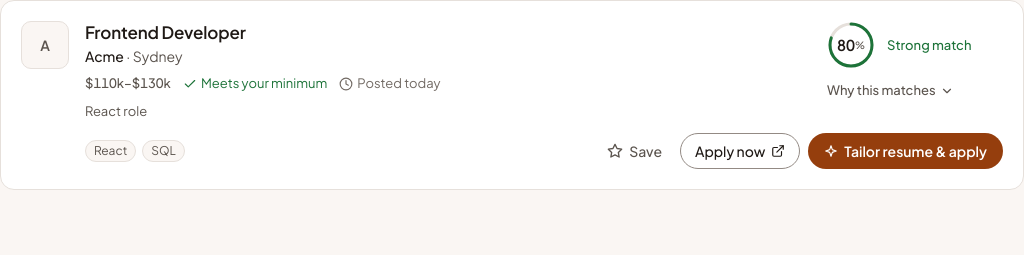
Test case: JobCard › shows salary and posting date once, with a tick when the salary meets the minimum
Expected: the text "Meets your minimum" is shown, [183, 74, 327, 94]
Expected: the text "Posted today" is shown once, [339, 74, 441, 94]
Click the button "Why this matches". click: {"x": 890, "y": 91}
box: [827, 81, 954, 100]
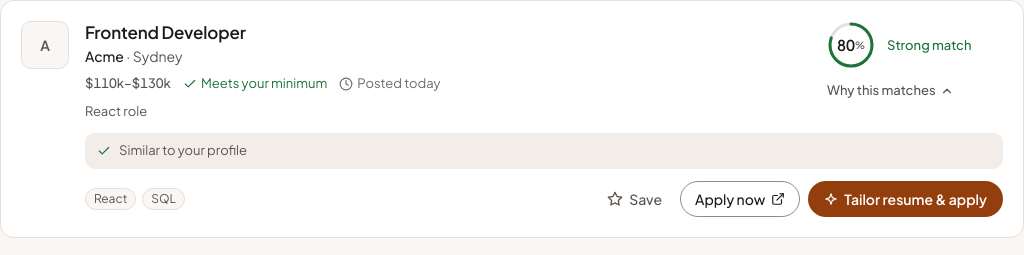
Expected: the list named "Why this matches" does not show "Salary", [85, 133, 1003, 169]
Expected: the list named "Why this matches" reads "Similar to your profile", [119, 142, 247, 158]
